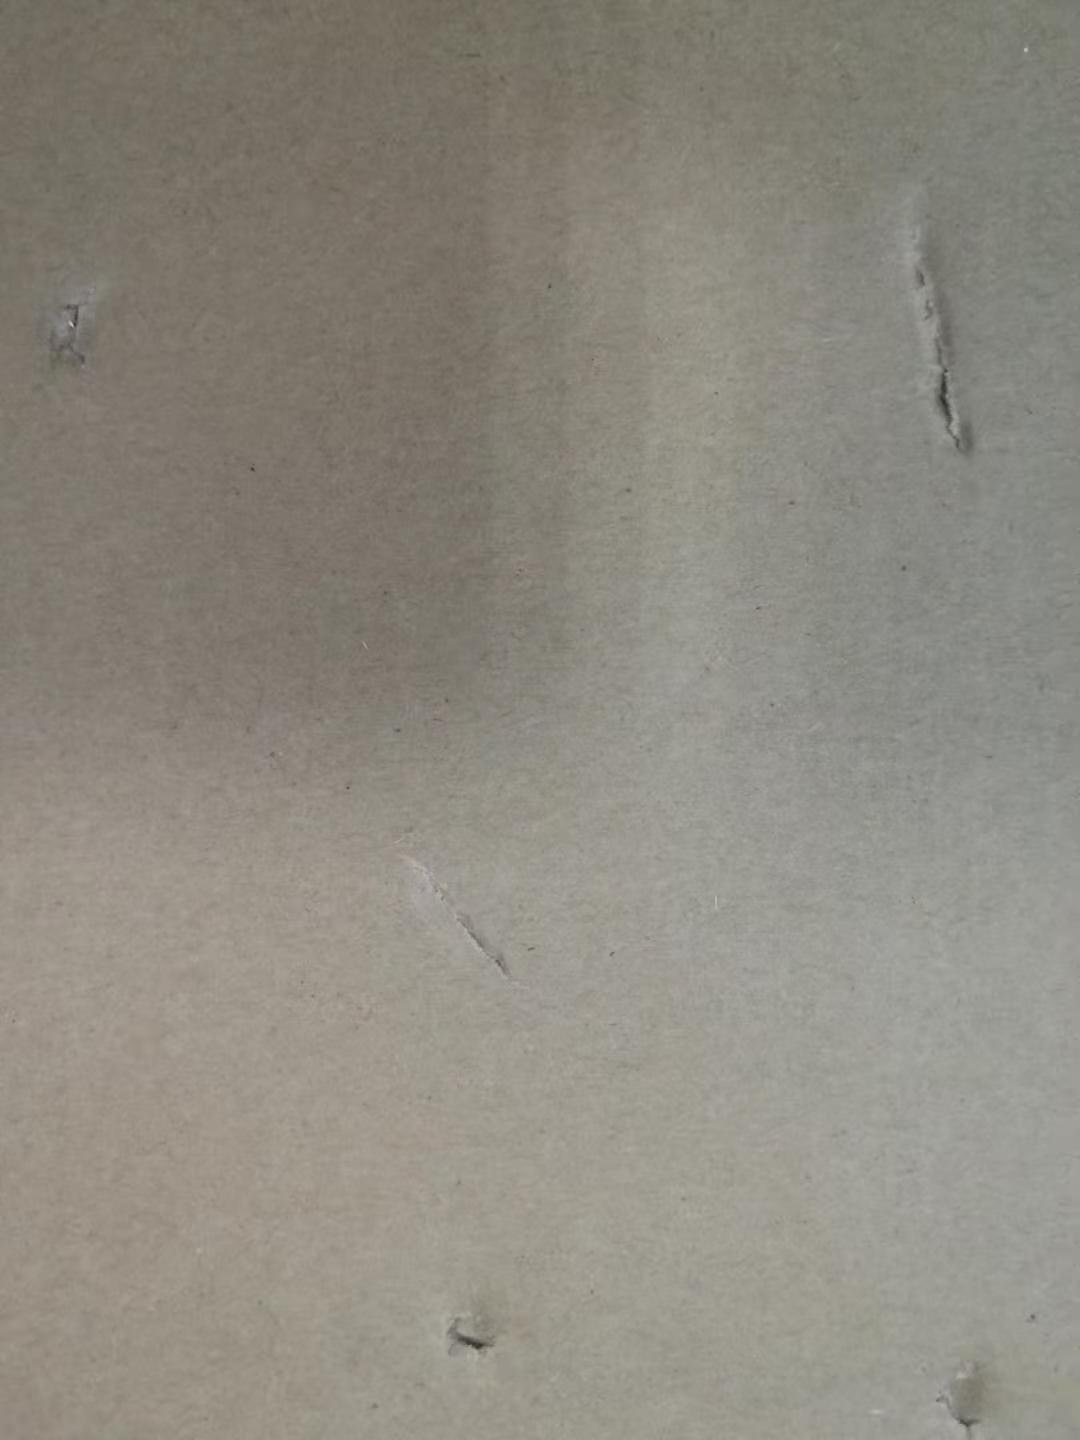defect: (860, 178, 1003, 498), (357, 813, 540, 1016), (17, 256, 140, 398), (411, 1265, 539, 1394), (905, 1333, 1028, 1438)
